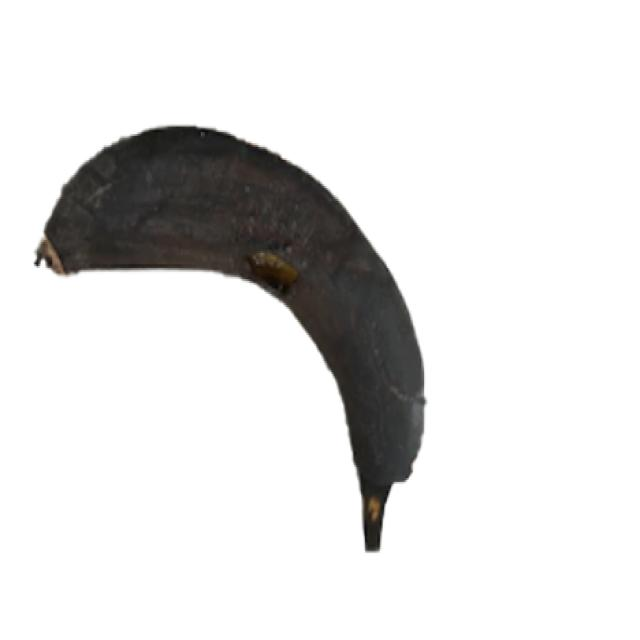rotten-banana: (32, 121, 426, 552)
